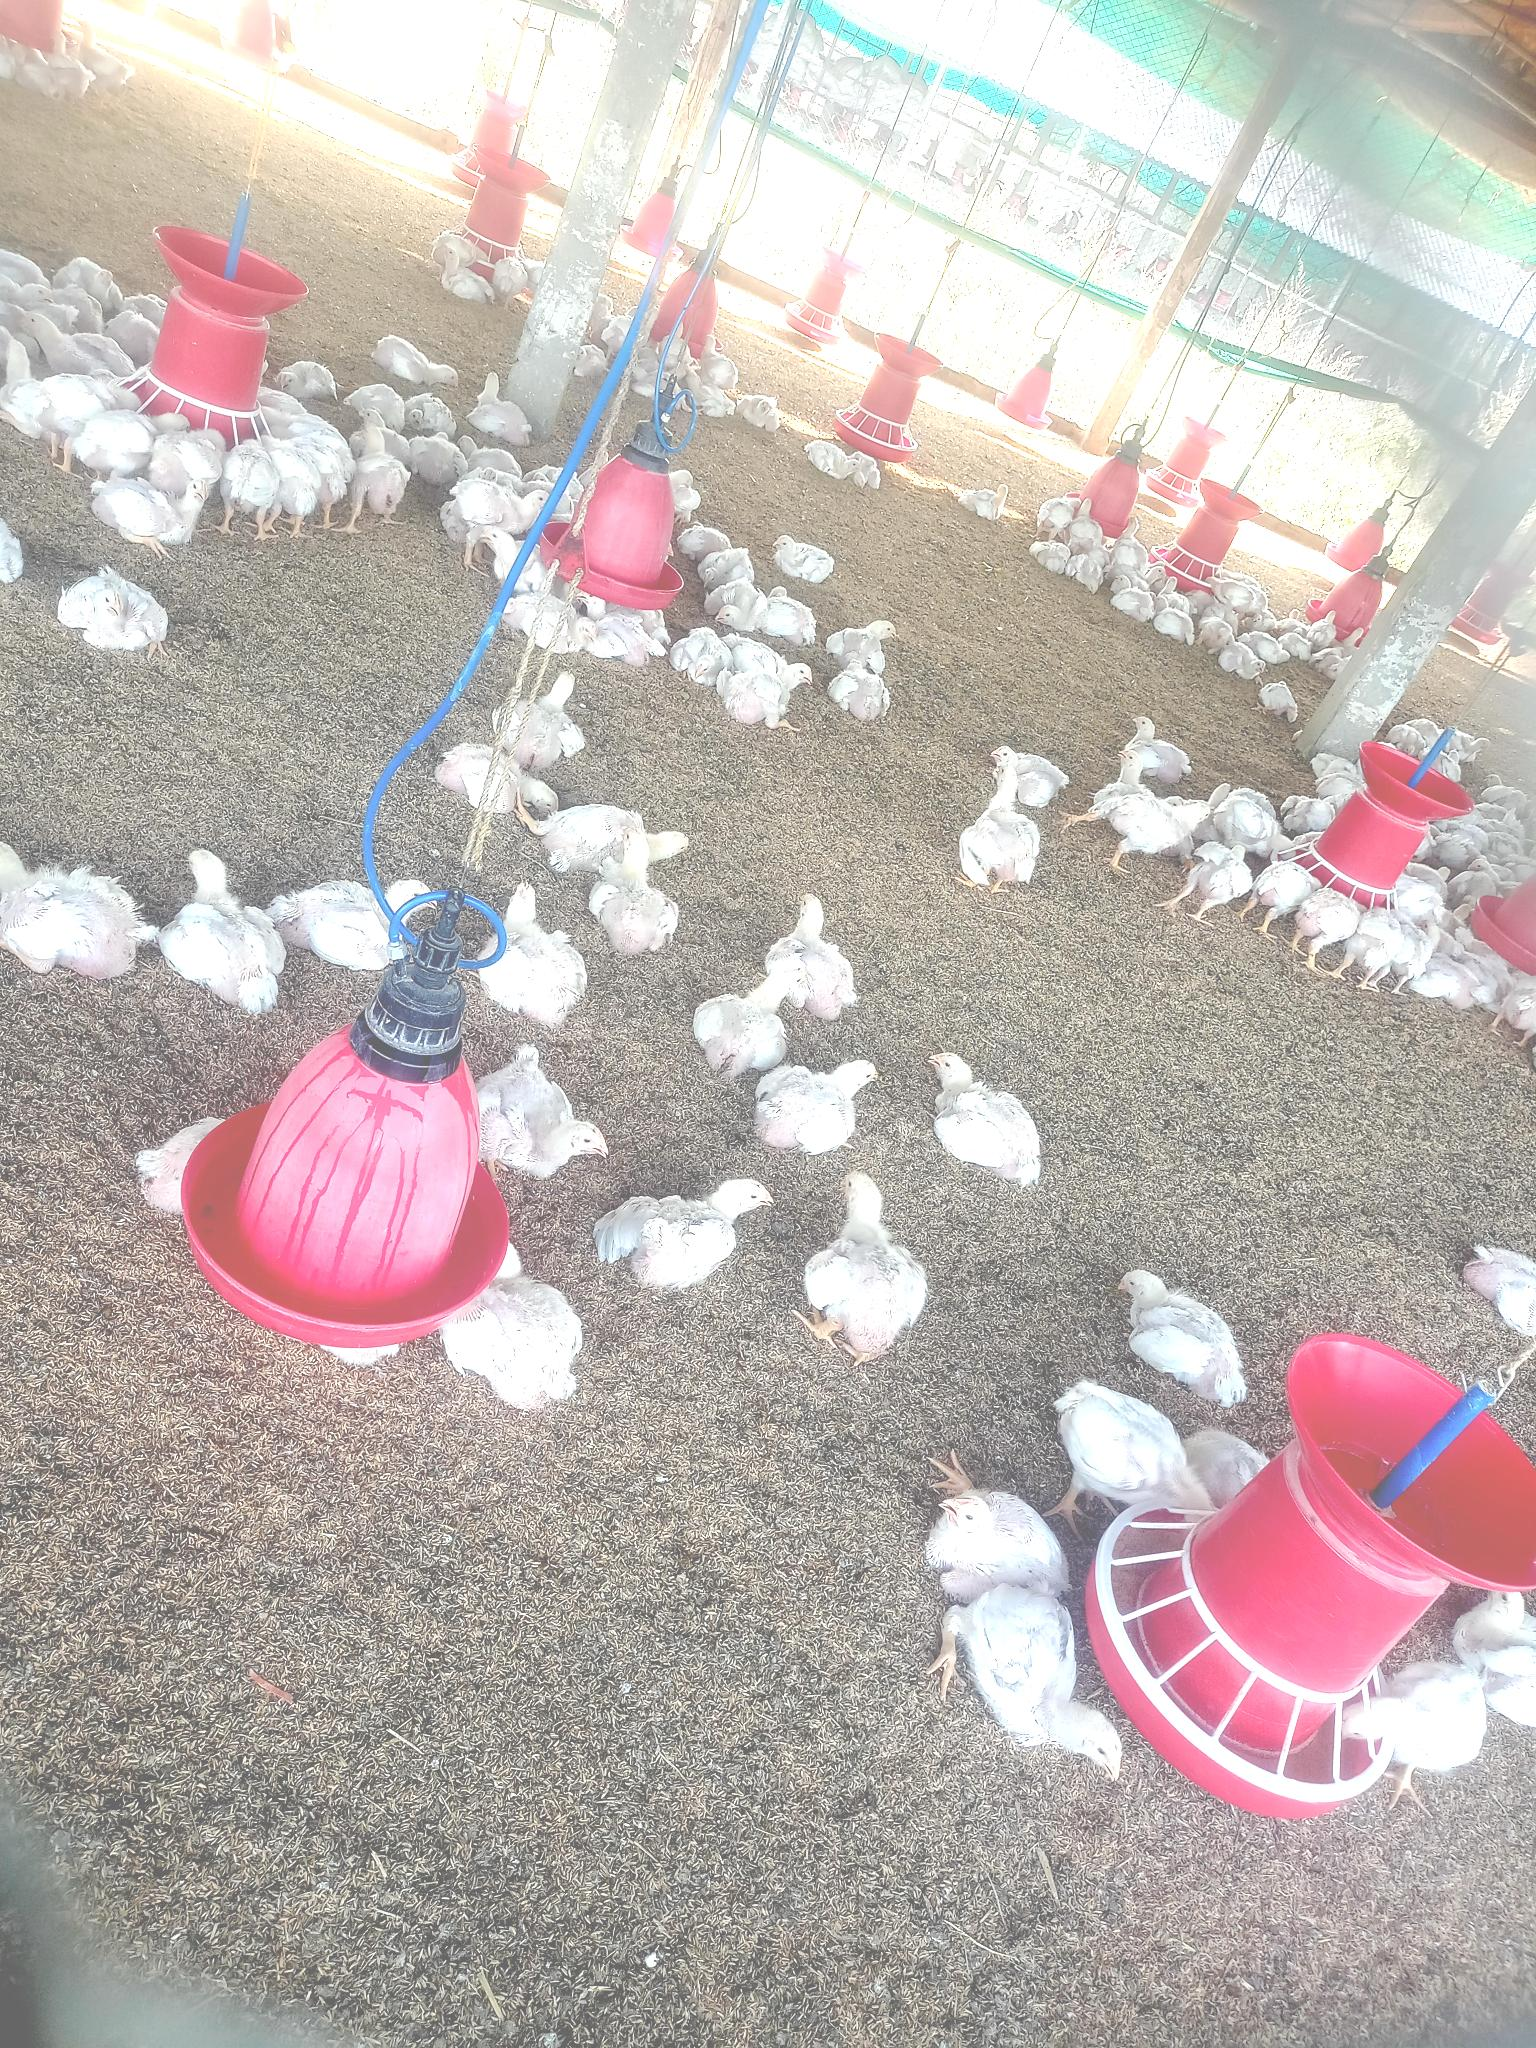Pollos: (921, 1584, 1142, 1793), (805, 1163, 925, 1371), (163, 835, 286, 1013), (1113, 1259, 1254, 1408), (1354, 1663, 1497, 1795), (597, 1176, 757, 1288), (904, 1477, 1066, 1584), (920, 1051, 1042, 1185), (752, 1042, 886, 1159), (5, 858, 132, 971), (1071, 1390, 1202, 1500), (770, 884, 871, 1024), (473, 1297, 582, 1426), (48, 550, 173, 660), (497, 882, 584, 1035), (691, 958, 787, 1089), (86, 469, 218, 556), (960, 764, 1047, 895), (507, 1064, 600, 1176), (615, 826, 681, 951), (502, 677, 597, 758), (729, 663, 820, 727), (1196, 830, 1255, 922), (457, 474, 547, 534), (1128, 706, 1196, 784), (1296, 885, 1360, 959), (774, 531, 839, 589), (828, 618, 895, 664), (707, 581, 762, 634), (962, 477, 1012, 527), (1265, 669, 1307, 726)
